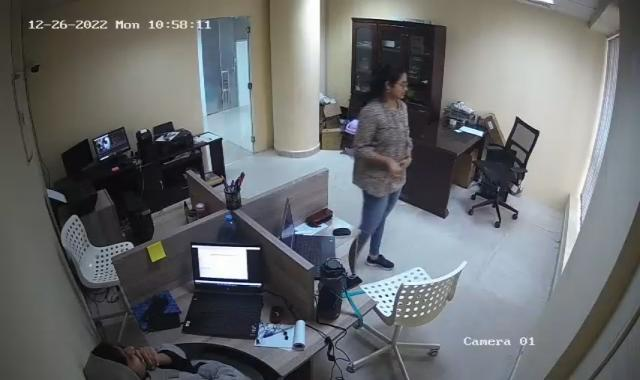no_hairnet: (92, 342, 136, 376), (387, 67, 410, 98)
